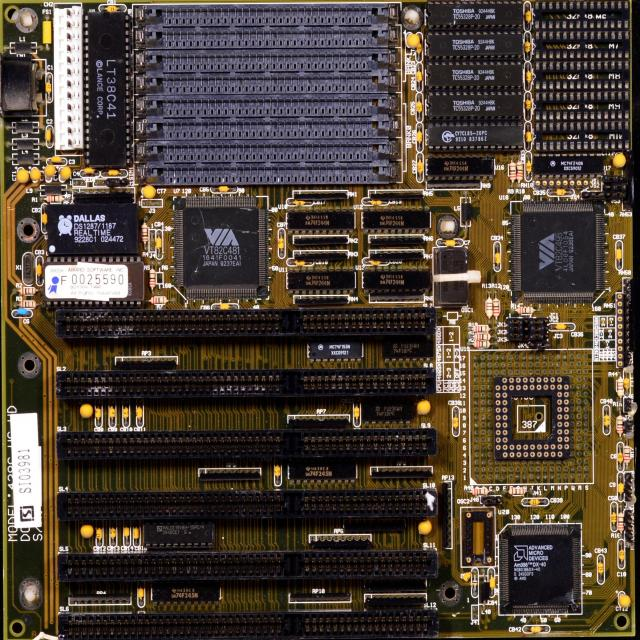Capacitor Jumper: (276, 228, 287, 256), (453, 406, 463, 435), (120, 524, 132, 548), (492, 246, 504, 270), (134, 404, 145, 428), (438, 237, 460, 249), (616, 544, 626, 570), (212, 185, 238, 195), (154, 230, 164, 256), (415, 125, 427, 146), (121, 405, 131, 430), (104, 166, 123, 179), (108, 525, 119, 547), (352, 401, 362, 425), (596, 555, 606, 579), (522, 625, 546, 635), (366, 196, 386, 208), (14, 306, 30, 321), (270, 464, 284, 481), (602, 404, 611, 430), (130, 525, 141, 546), (617, 476, 626, 500), (416, 63, 424, 90), (610, 503, 618, 529), (82, 166, 98, 179), (523, 34, 532, 57), (94, 526, 104, 546), (623, 372, 632, 394), (107, 404, 116, 426), (524, 498, 548, 506), (486, 572, 495, 592), (414, 157, 424, 175), (367, 256, 385, 266), (415, 38, 423, 60), (216, 301, 232, 312), (552, 322, 568, 333), (94, 403, 102, 423), (616, 446, 624, 466), (615, 244, 623, 264), (136, 585, 144, 604), (45, 126, 53, 144), (524, 97, 532, 113), (51, 152, 67, 160), (525, 68, 532, 86), (525, 8, 532, 26), (525, 128, 532, 145), (36, 263, 43, 280), (415, 100, 423, 113), (40, 212, 48, 224)
Connector: (57, 491, 290, 519), (58, 612, 292, 639), (56, 553, 295, 578), (134, 94, 402, 116), (134, 163, 399, 184), (60, 370, 288, 394), (57, 311, 292, 334), (58, 434, 292, 457), (135, 50, 401, 70), (133, 118, 399, 138), (132, 74, 400, 93), (134, 141, 402, 160), (133, 28, 400, 47), (133, 5, 398, 24), (296, 551, 438, 579), (295, 490, 435, 518), (54, 12, 82, 152), (293, 432, 438, 457), (294, 612, 435, 636), (294, 310, 434, 334), (292, 371, 433, 394), (0, 53, 45, 117), (534, 60, 630, 73), (534, 0, 630, 13), (535, 79, 633, 91), (535, 110, 632, 122), (534, 18, 631, 30), (536, 30, 628, 42), (535, 92, 630, 103), (535, 142, 632, 152), (534, 50, 631, 59), (535, 123, 631, 132), (134, 404, 144, 427)
IC: (509, 200, 606, 302), (174, 196, 270, 297), (499, 523, 582, 616), (86, 13, 130, 166), (47, 256, 145, 306), (46, 208, 141, 256), (425, 1, 525, 29), (424, 92, 521, 120), (426, 62, 526, 89), (424, 33, 524, 56), (288, 458, 358, 486), (362, 268, 431, 296), (361, 210, 432, 236), (287, 268, 358, 294), (428, 129, 524, 148), (530, 155, 606, 179), (285, 210, 357, 234), (143, 522, 210, 547), (427, 156, 495, 180), (152, 582, 222, 604), (360, 400, 417, 426), (381, 338, 435, 362), (308, 338, 364, 359)
Resistor Jumper: (507, 159, 519, 188), (468, 484, 491, 498), (140, 221, 151, 249), (614, 413, 626, 438), (472, 339, 495, 352), (43, 76, 55, 100), (43, 193, 65, 206), (469, 321, 491, 334), (148, 266, 158, 294), (517, 159, 526, 187), (615, 375, 625, 400), (622, 445, 632, 469), (148, 294, 168, 306), (507, 485, 528, 496), (20, 286, 40, 297), (20, 297, 38, 309), (617, 509, 625, 534), (486, 296, 494, 321), (471, 333, 493, 342), (494, 296, 502, 320), (517, 306, 536, 316)
